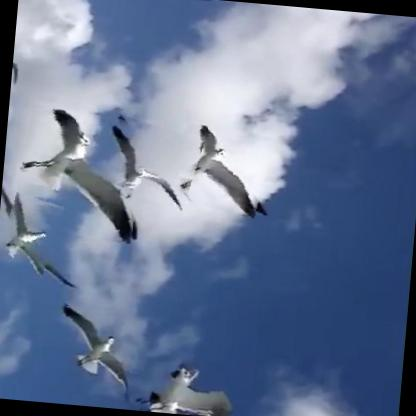bird: (12, 105, 148, 242), (94, 116, 202, 208), (170, 120, 271, 217), (54, 304, 135, 394), (0, 193, 60, 290), (137, 360, 236, 416)
